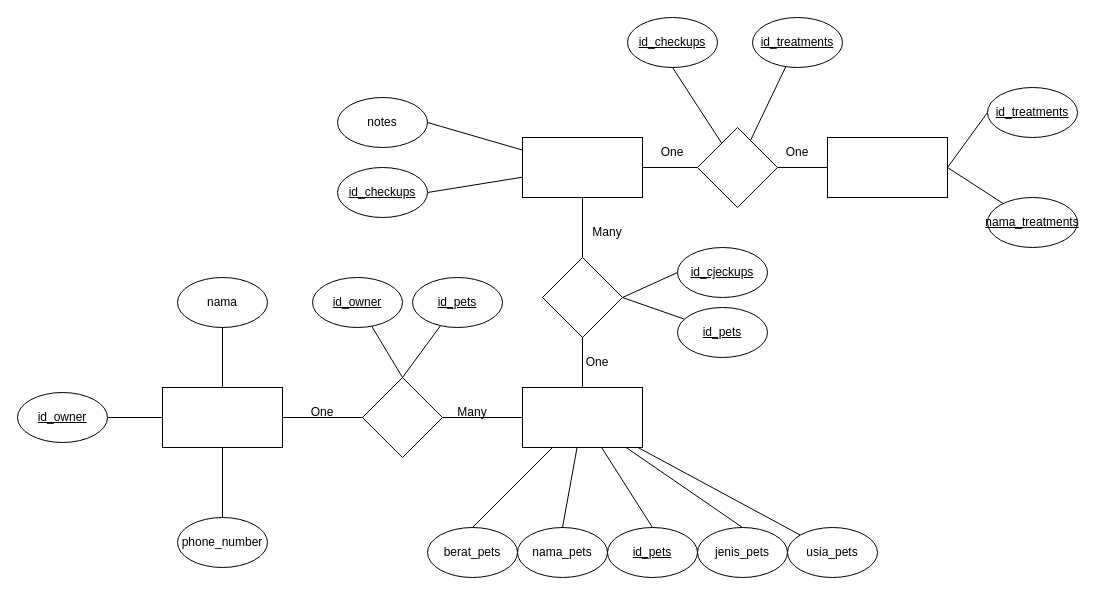
Some shapes in this 1096 by 595 pixel diagram are drawn without their labels. The box of each missing label's shape, as (x1, y1, x2, y2) in pixels:
can: (542, 256, 622, 338)
Checkups: (522, 136, 642, 198)
do: (696, 126, 778, 208)
Have: (362, 376, 442, 458)
Owner: (162, 386, 282, 448)
Pets: (522, 386, 642, 448)
Treatments: (826, 136, 948, 198)
